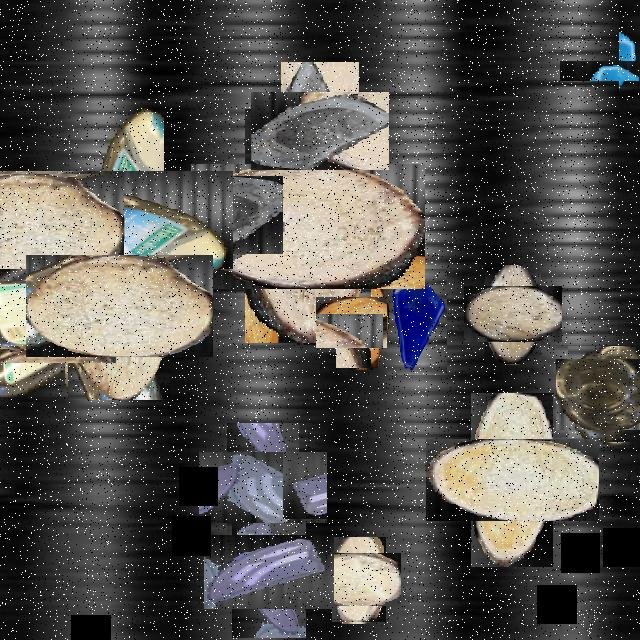glass: (266, 77, 374, 186), (218, 521, 320, 624), (213, 437, 313, 537), (387, 269, 447, 375), (589, 31, 640, 110)
plastic: (30, 136, 198, 304), (0, 264, 99, 379), (562, 352, 640, 436)
wood: (218, 136, 398, 316), (46, 233, 192, 379), (448, 416, 576, 544), (474, 276, 552, 353), (326, 286, 398, 358), (324, 545, 394, 614)
